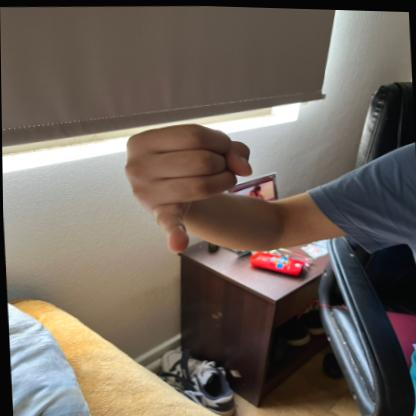Z: (120, 117, 258, 256)
